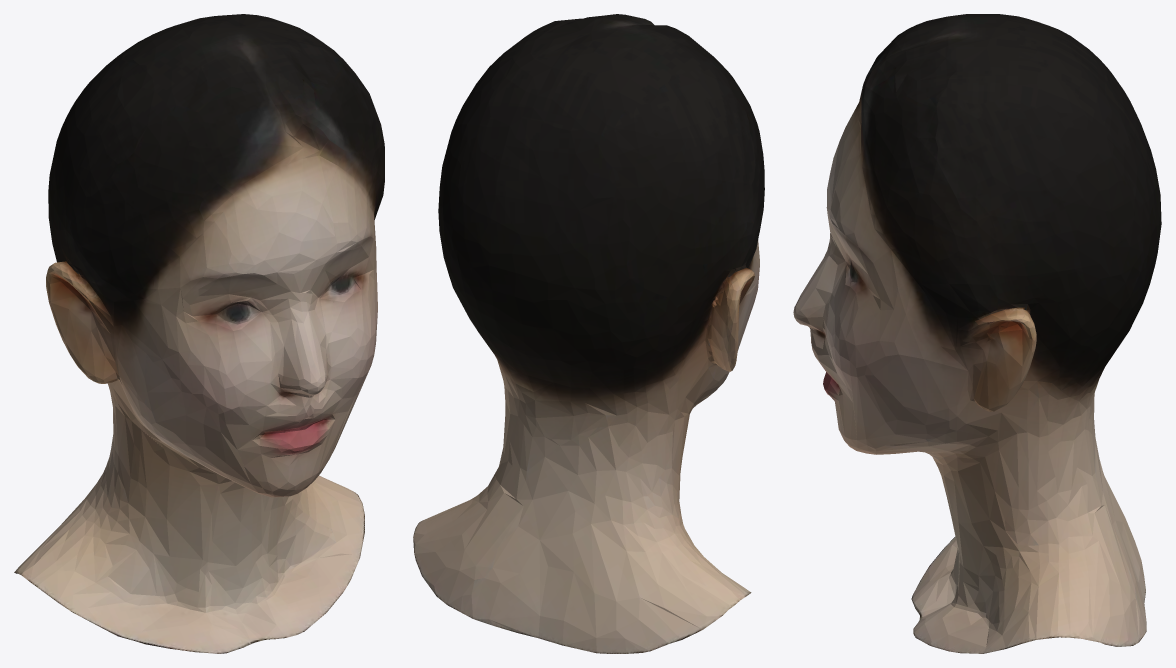
File: head-bun.glb
3 views of the same model, side by side, from view 1: azimuth 30°, elevation 25°; view 2: azimuth 150°, elevation 25°; view 3: azimuth 270°, elevation 25° (orthographic). The views are drawn at different scales.
Visible parts, largest first — view 1: geometry_0; view 2: geometry_0; view 3: geometry_0.
Part boxes in pixels (x1=…): geometry_0: x1=14, y1=14, x2=384, y2=653; geometry_0: x1=413, y1=14, x2=764, y2=653; geometry_0: x1=793, y1=14, x2=1161, y2=653.
Size of the model in its own units: 0.5975 by 0.999 by 0.566.
1 material, 1 textured.
